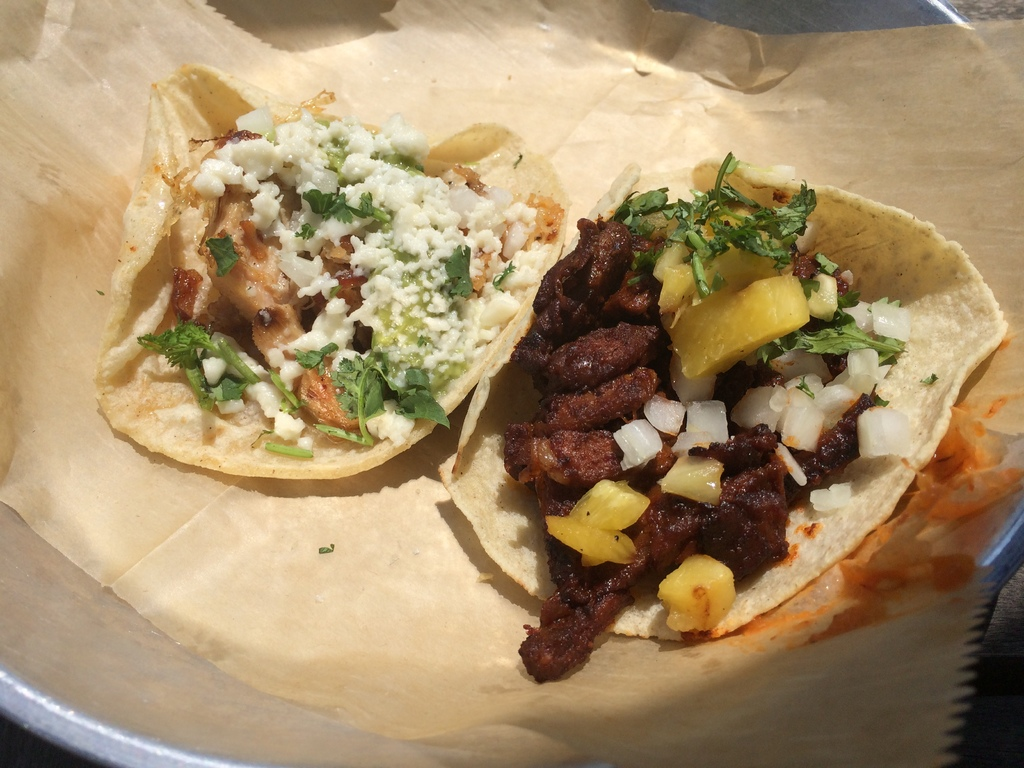taco: (435, 152, 1005, 671), (93, 58, 568, 481)
